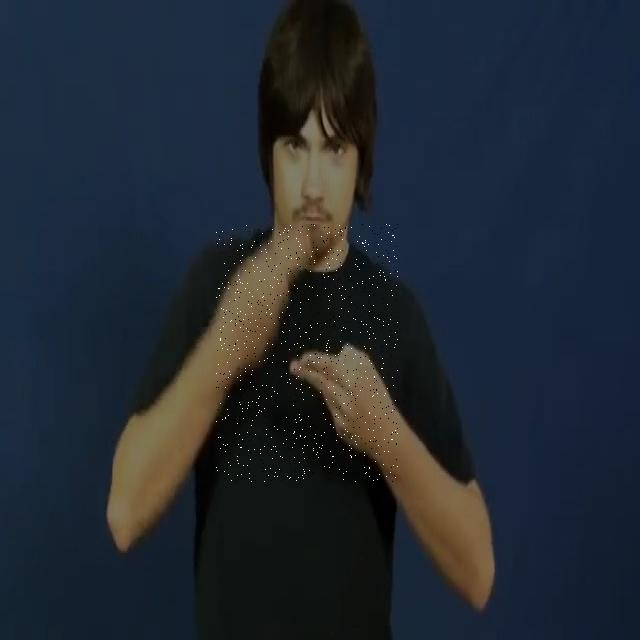spoon: (216, 224, 398, 482)
